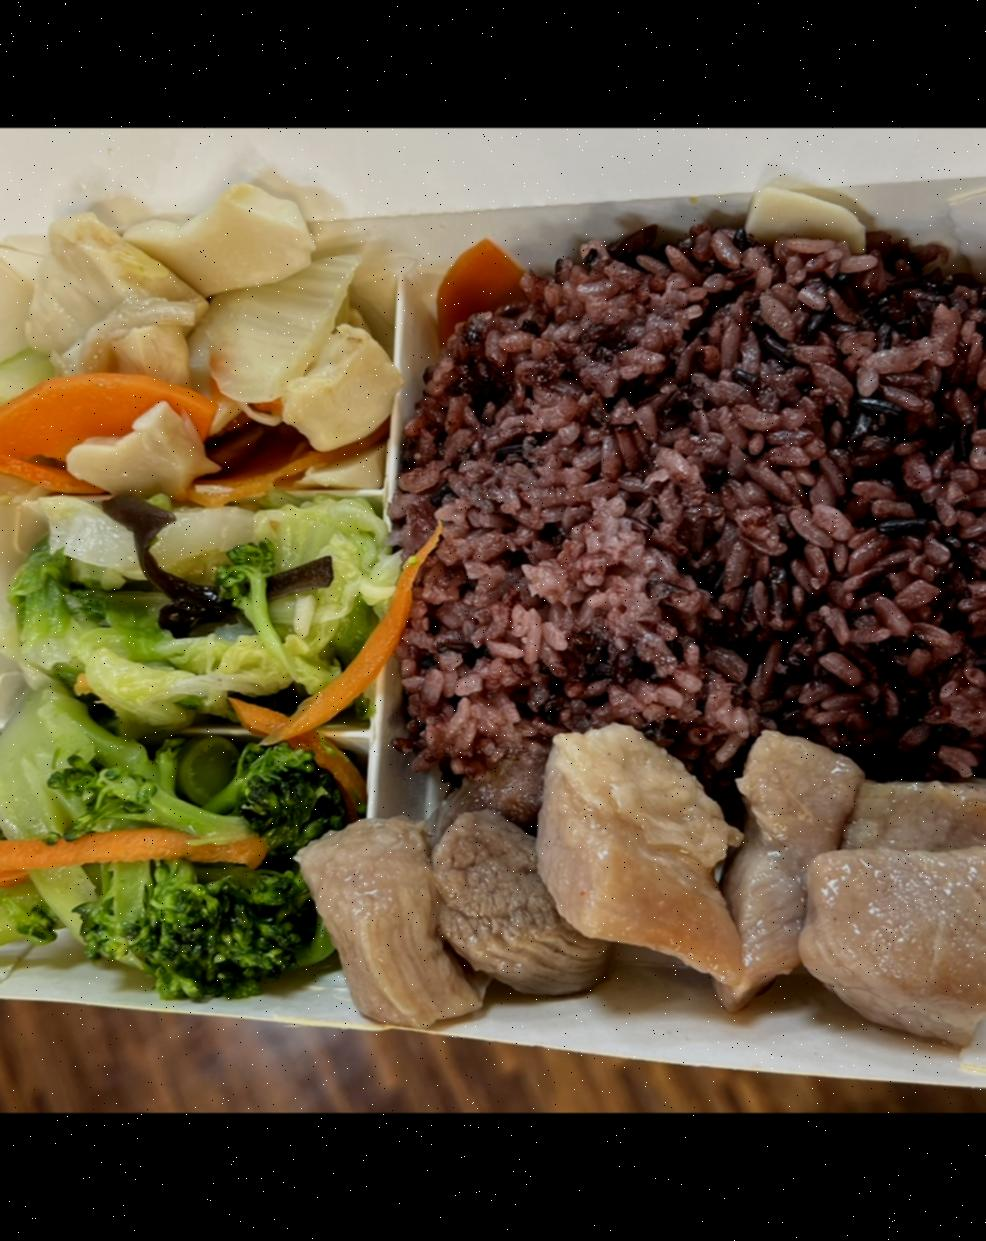box: (0, 143, 986, 1113)
purple rice: (378, 218, 986, 778)
side dish: (0, 173, 395, 501), (0, 709, 363, 996), (0, 498, 419, 718)
white sauce chicken: (285, 721, 986, 1035)
